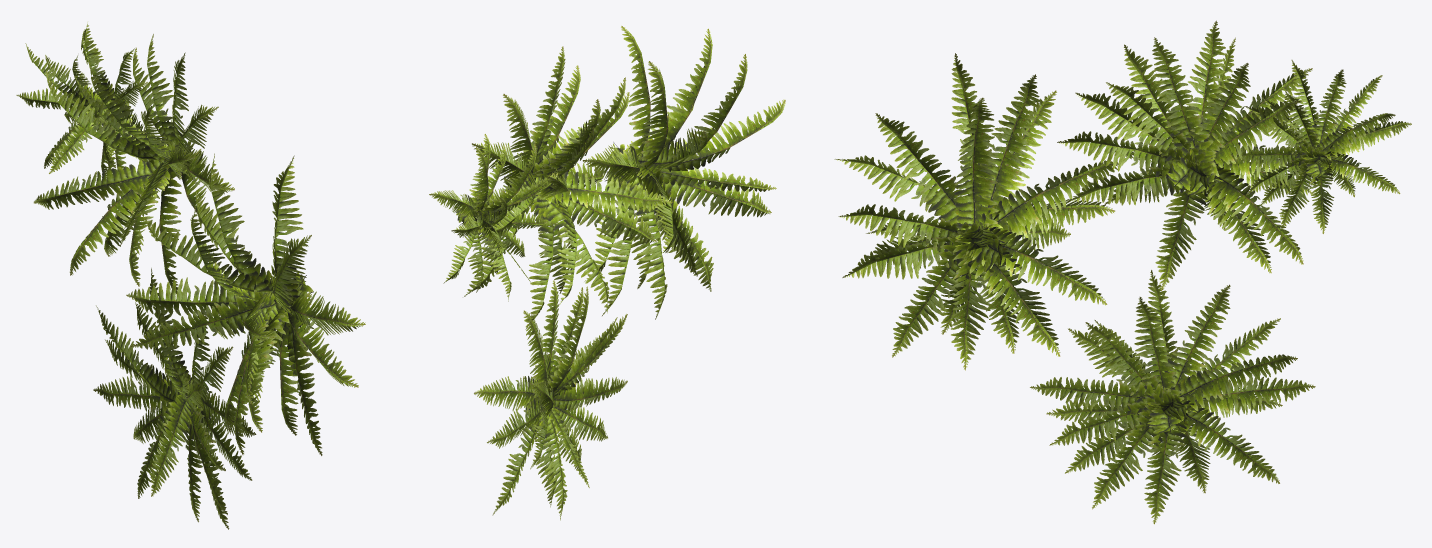
Rendered from bushes.glb.
3 views of the same model, side by side, from view 1: azimuth 30°, elevation 25°; view 2: azimuth 150°, elevation 25°; view 3: azimuth 270°, elevation 25° (orthographic). The views are drawn at different scales.
Visible parts, largest first — view 1: Object_2; view 2: Object_2; view 3: Object_2.
Boxes of the visible parts, left/top/right/bottom form: Object_2: left=16, top=22, right=365, bottom=529; Object_2: left=429, top=26, right=785, bottom=520; Object_2: left=834, top=20, right=1411, bottom=524.
Size of the model in its own units: 0.0271 by 0.0797 by 0.0882.
1 material, 1 textured.
